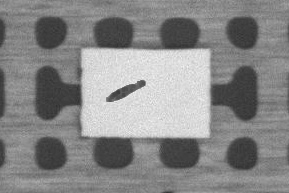DIE_INK: (154, 52, 220, 69)
